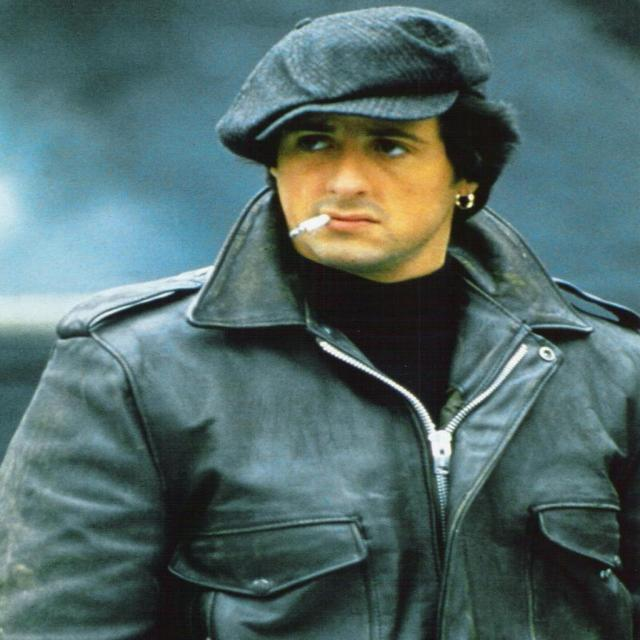smoking: (232, 19, 516, 298)
